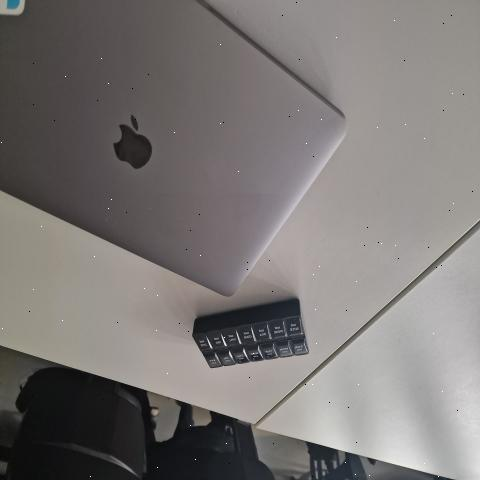PillBox: (188, 297, 312, 384)
